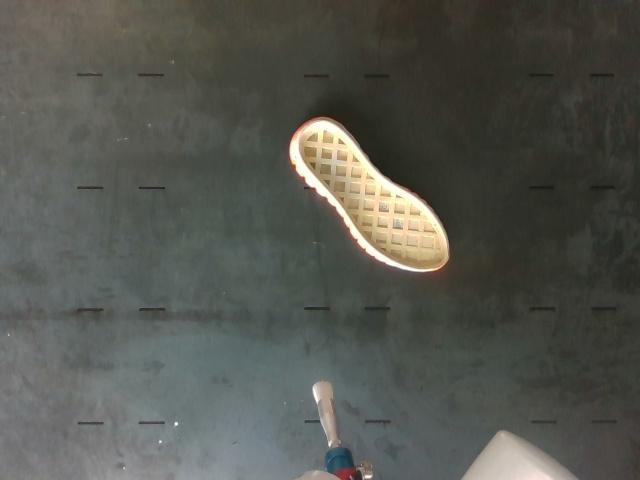shoes: (299, 121, 448, 270)
